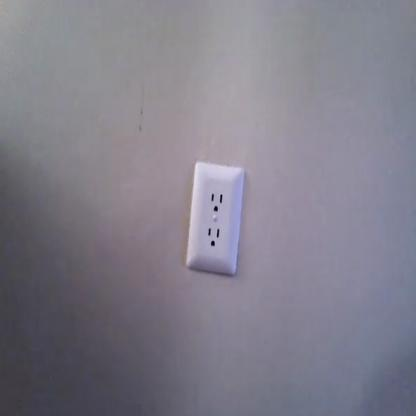OUTLET: (187, 161, 242, 276)
